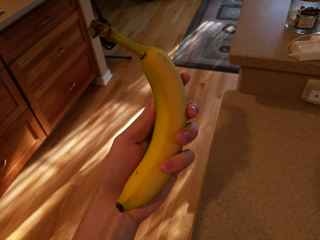banana: (86, 15, 190, 215)
